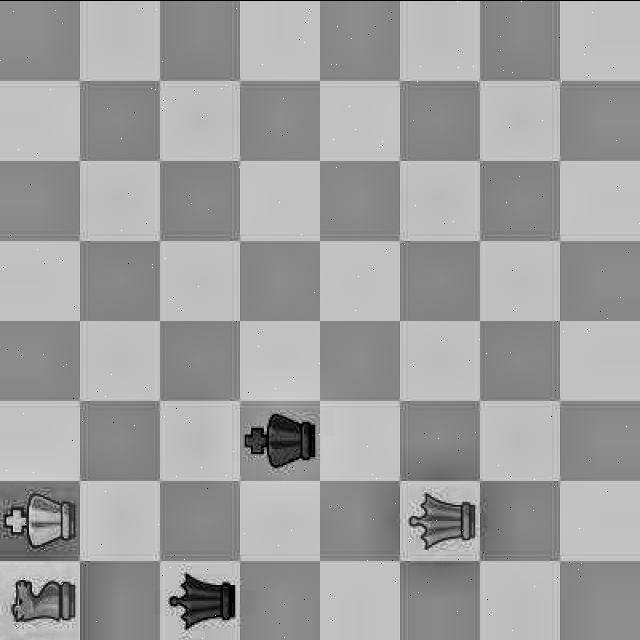black king: (242, 401, 318, 476)
black queen: (162, 566, 232, 640)
white king: (0, 484, 79, 555)
white queen: (398, 482, 488, 562)
whiteknight: (0, 566, 84, 638)
